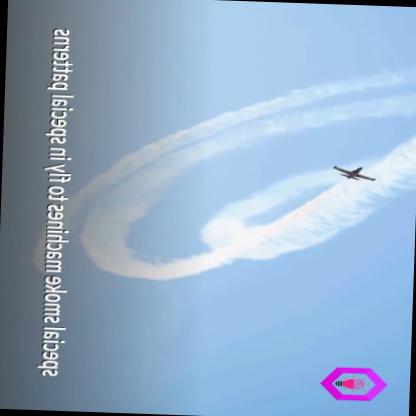plane: (323, 162, 382, 184)
